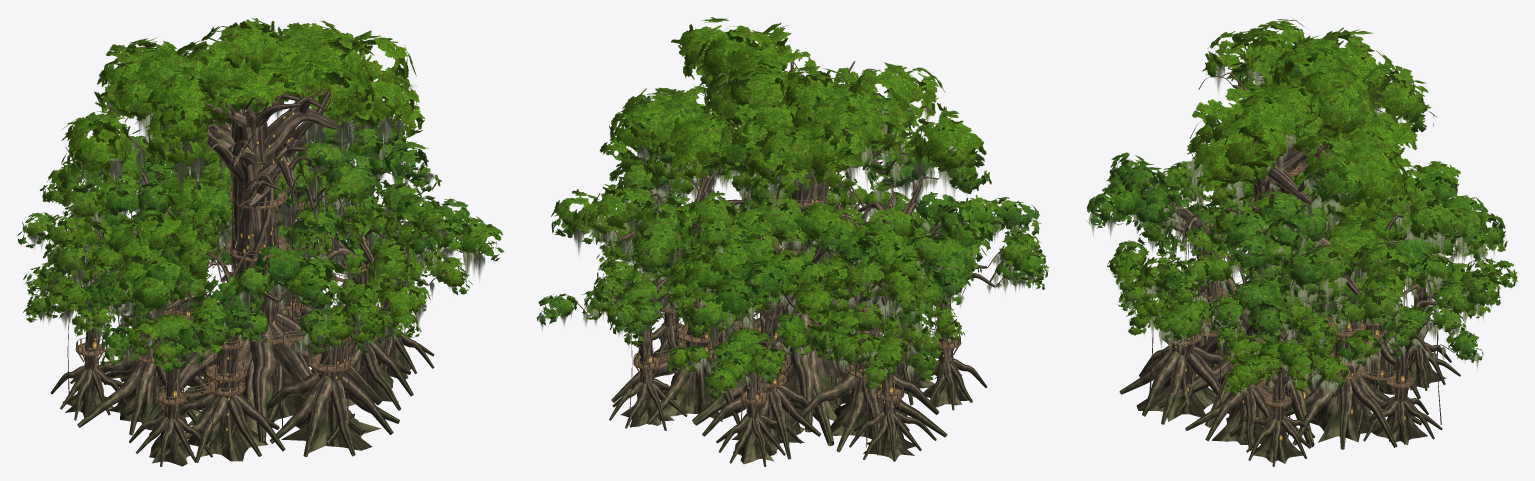
File: widdershins.glb
3 renders of one model, left to right at view 1: azimuth 30°, elevation 25°; view 2: azimuth 150°, elevation 25°; view 3: azimuth 270°, elevation 25°, orthographic. The views are drawn at different scales.
Visible parts, largest first — view 1: leaf, bark, moss, wood, rope, window; view 2: leaf, bark, moss, wood, rope; view 3: leaf, bark, moss, wood, rope, window.
Boxes of the visible parts, x1,y1,x2,y2 form: leaf: (17, 18, 504, 372); bark: (29, 55, 488, 466); moss: (30, 83, 485, 367); wood: (75, 162, 399, 413); rope: (76, 161, 380, 397); window: (84, 111, 408, 431); leaf: (536, 17, 1048, 400); bark: (549, 49, 1035, 466); moss: (539, 72, 1044, 392); wood: (633, 188, 961, 412); rope: (634, 189, 960, 397); leaf: (1086, 18, 1517, 396); bark: (1098, 46, 1503, 466); moss: (1088, 58, 1495, 398); wood: (1163, 162, 1429, 415); rope: (1184, 161, 1413, 400); window: (1168, 150, 1408, 441).
Size of the model in its own units: 464 by 387 by 462.
Materials: 6 (5 with a texture image).
